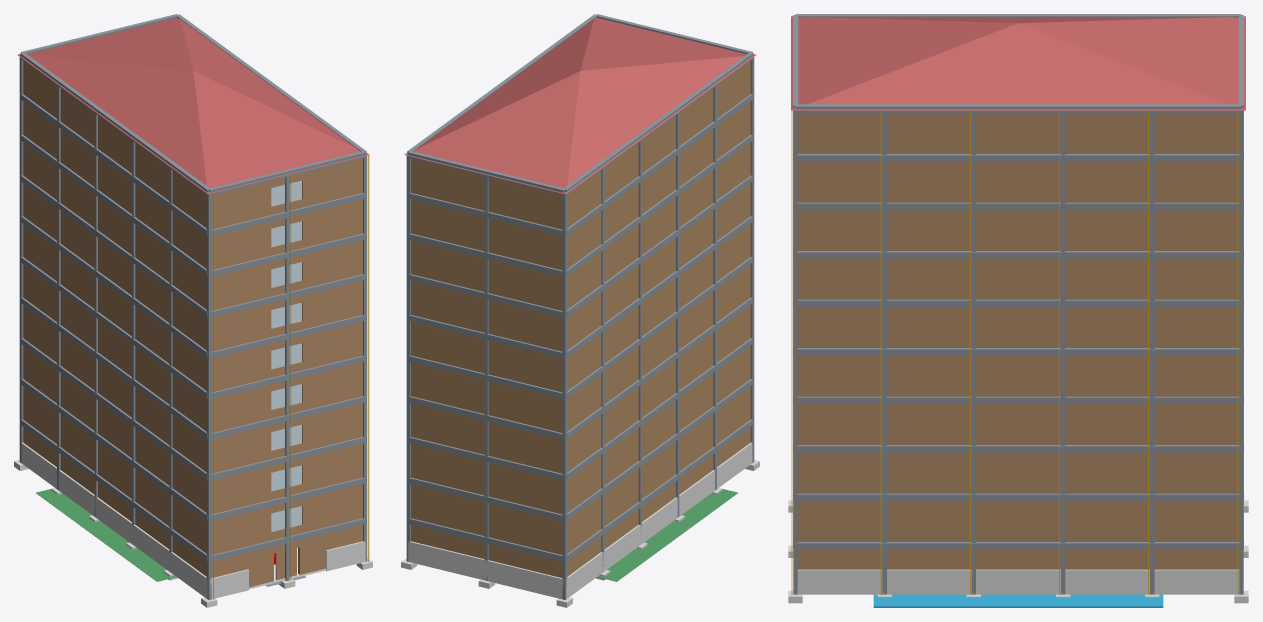
File: generated_building_21.glb
3 views of the same model, side by side, from view 1: azimuth 30°, elevation 25°; view 2: azimuth 150°, elevation 25°; view 3: azimuth 270°, elevation 25° (orthographic). The views are drawn at different scales.
Visible parts, largest first — view 1: architectural, structural, landscape, windows, electrical, doors; view 2: architectural, structural, landscape; view 3: architectural, structural, landscape, electrical.
Part boxes in pixels (x1,y1,x2,y2): architectural: (17,18,369,587); structural: (14,14,372,607); landscape: (20,442,365,599); windows: (271,180,301,531); electrical: (213,155,369,599); doors: (275,548,296,580); architectural: (404,18,756,577); structural: (401,14,759,607); landscape: (408,442,752,599); architectural: (791,16,1245,569); structural: (788,14,1248,603); landscape: (796,569,1239,607); electrical: (791,110,1238,595).
Bounding box in the file's own units: 15 × 32.9 × 25.8.
